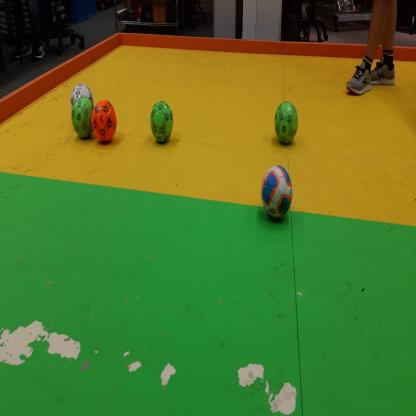ball: (261, 165, 294, 221), (92, 100, 116, 143), (275, 101, 298, 145), (150, 100, 173, 143), (72, 97, 93, 137), (70, 84, 93, 107)
